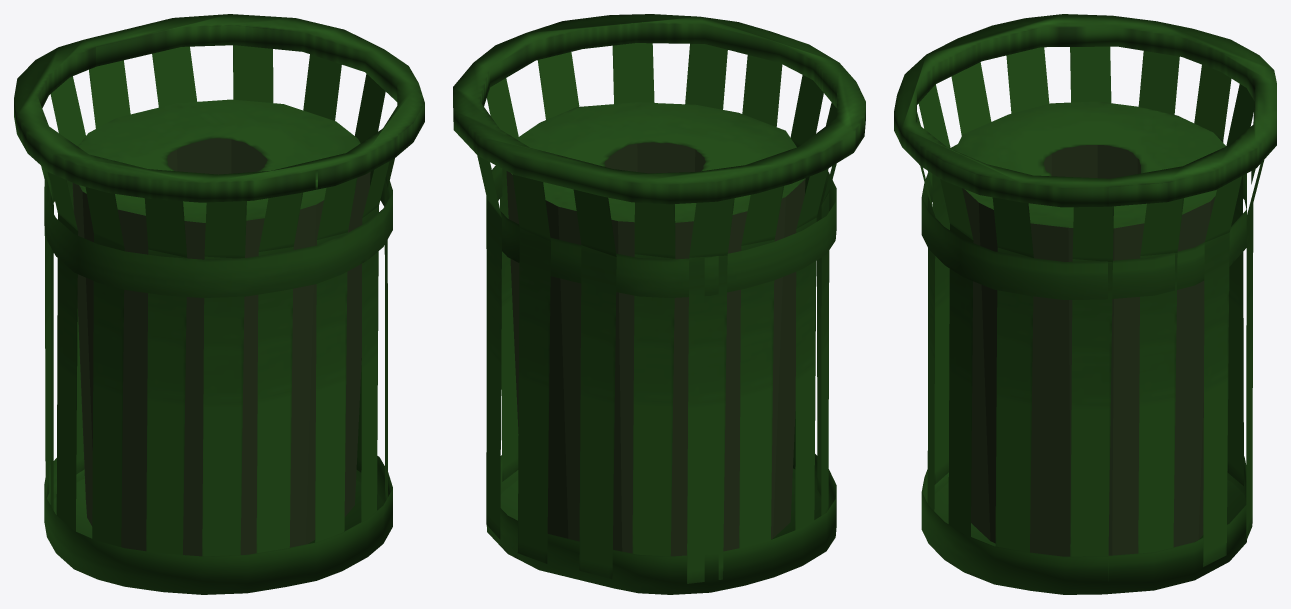
File: trashcan.fbx
3 renders of one model, left to right at view 1: azimuth 30°, elevation 25°; view 2: azimuth 150°, elevation 25°; view 3: azimuth 270°, elevation 25°, orthographic.
Parts seen in each view (by area): view 1: trash can; view 2: trash can; view 3: trash can.
Boxes of the visible parts, bbox=[...] form: trash can: bbox=[14, 14, 424, 594]; trash can: bbox=[453, 14, 865, 594]; trash can: bbox=[894, 14, 1276, 594].
Bounding box in the file's own units: 63.14 × 71.15 × 58.72.
